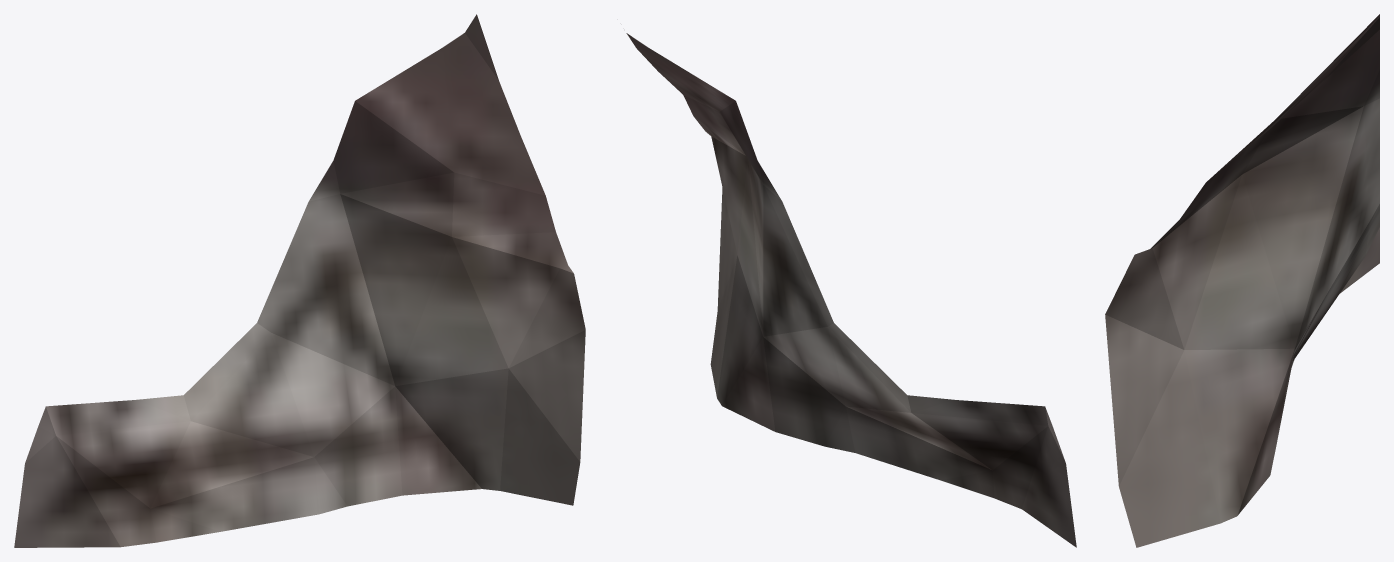
3 renders of one model, left to right at view 1: azimuth 30°, elevation 25°; view 2: azimuth 150°, elevation 25°; view 3: azimuth 270°, elevation 25°, orthographic. The views are drawn at different scales.
Bounding box in the file's own units: 0.1535 × 0.1335 × 0.0626.
Materials: 1 (1 with a texture image).
